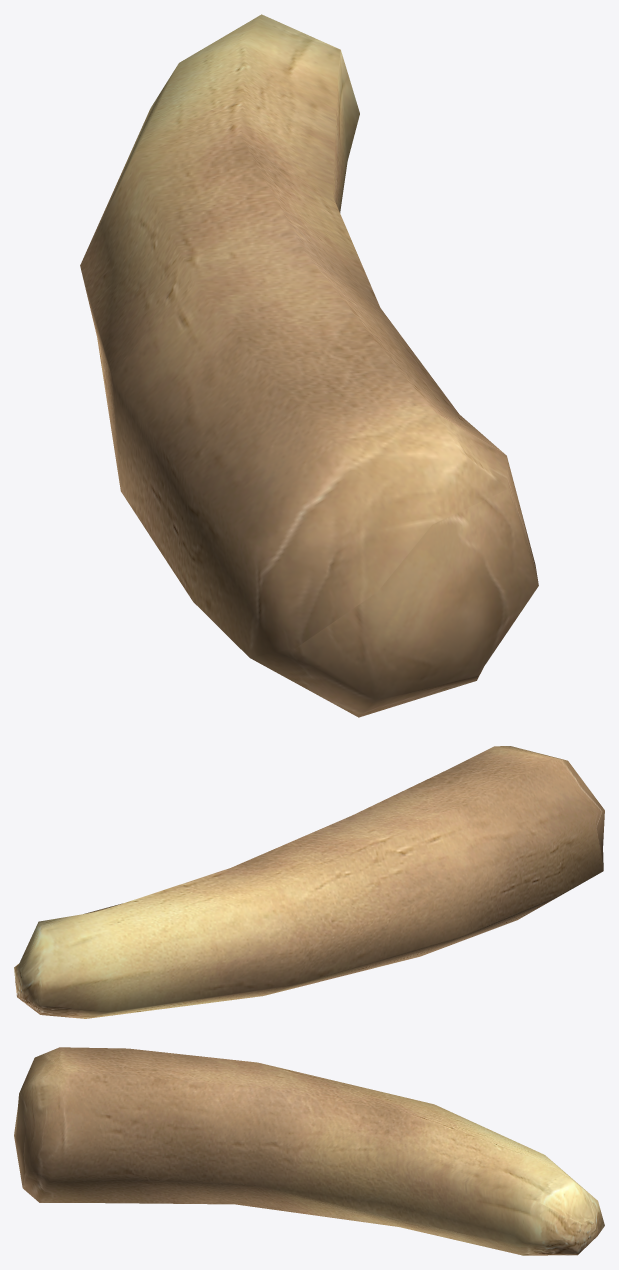
File: bone_07.FBX
3 views of the same model, one above another, from view 1: azimuth 30°, elevation 25°; view 2: azimuth 150°, elevation 25°; view 3: azimuth 270°, elevation 25° (orthographic). The views are drawn at different scales.
Parts seen in each view (by area): view 1: bone_07; view 2: bone_07; view 3: bone_07.
Part boxes in pixels (bbox=[...]): bone_07: bbox=[80, 14, 538, 717]; bone_07: bbox=[14, 746, 604, 1018]; bone_07: bbox=[14, 1047, 604, 1255].
Bounding box in the file's own units: 25.22 × 10.99 × 43.69.
